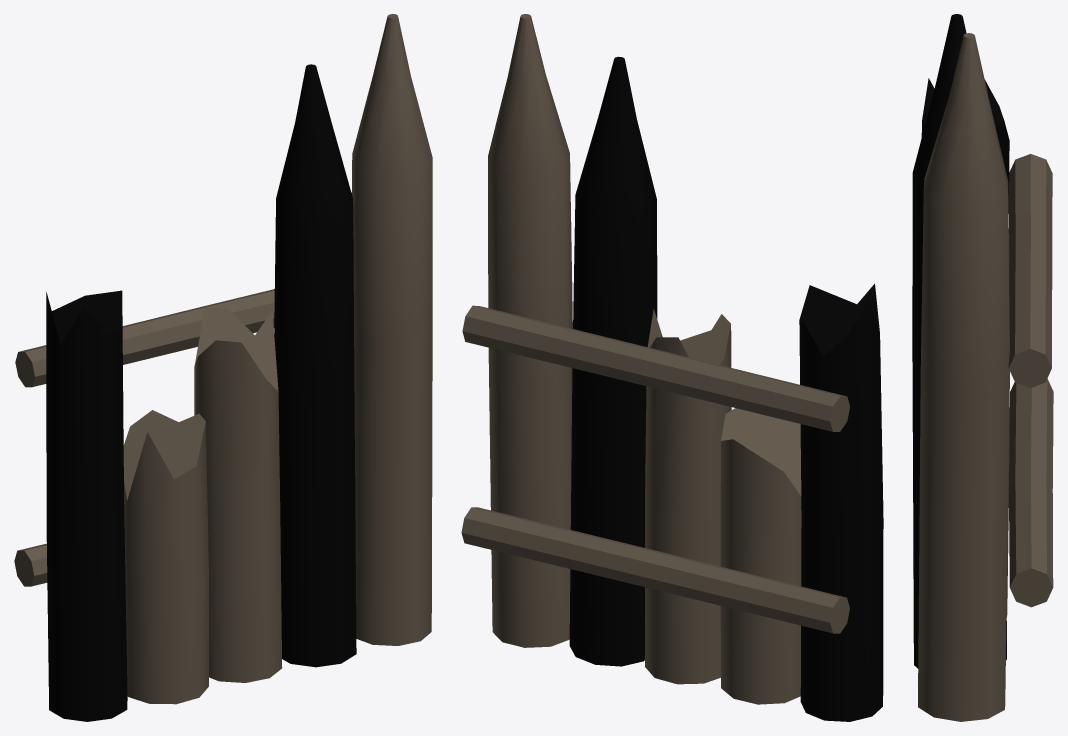
File: bruestung_holz_15_1m_kaputt.glb
The picture shows the model from 3 angles, left to right: view 1: azimuth 30°, elevation 25°; view 2: azimuth 150°, elevation 25°; view 3: azimuth 270°, elevation 25°; orthographic projection. The views are drawn at different scales.
Parts seen in each view (by area): view 1: bruestung_holz_15_1m_kaputt; view 2: bruestung_holz_15_1m_kaputt; view 3: bruestung_holz_15_1m_kaputt.
Boxes of the visible parts, bbox=[...] form: bruestung_holz_15_1m_kaputt: bbox=[14, 14, 432, 721]; bruestung_holz_15_1m_kaputt: bbox=[461, 14, 883, 721]; bruestung_holz_15_1m_kaputt: bbox=[912, 14, 1053, 721].
Bounding box in the file's own units: 0.9939 × 1.53 × 0.2922.
